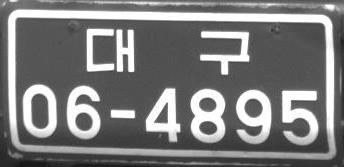0: (21, 81, 57, 137)
4: (145, 87, 180, 142)
5: (280, 88, 319, 146)
6: (65, 83, 102, 140)
8: (189, 87, 227, 142)
9: (235, 88, 272, 144)
대구_D: (86, 27, 251, 75)
